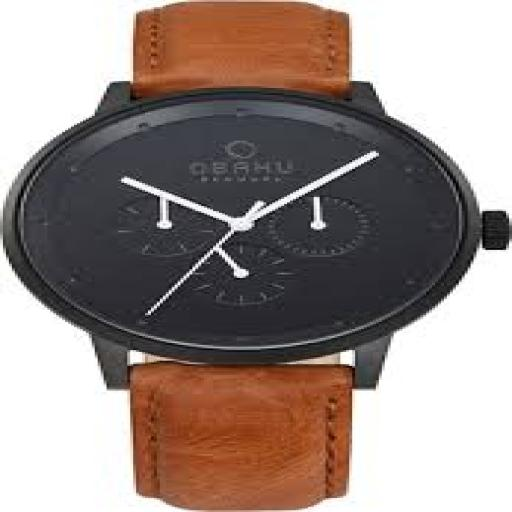KolSaati: (2, 0, 502, 512)
